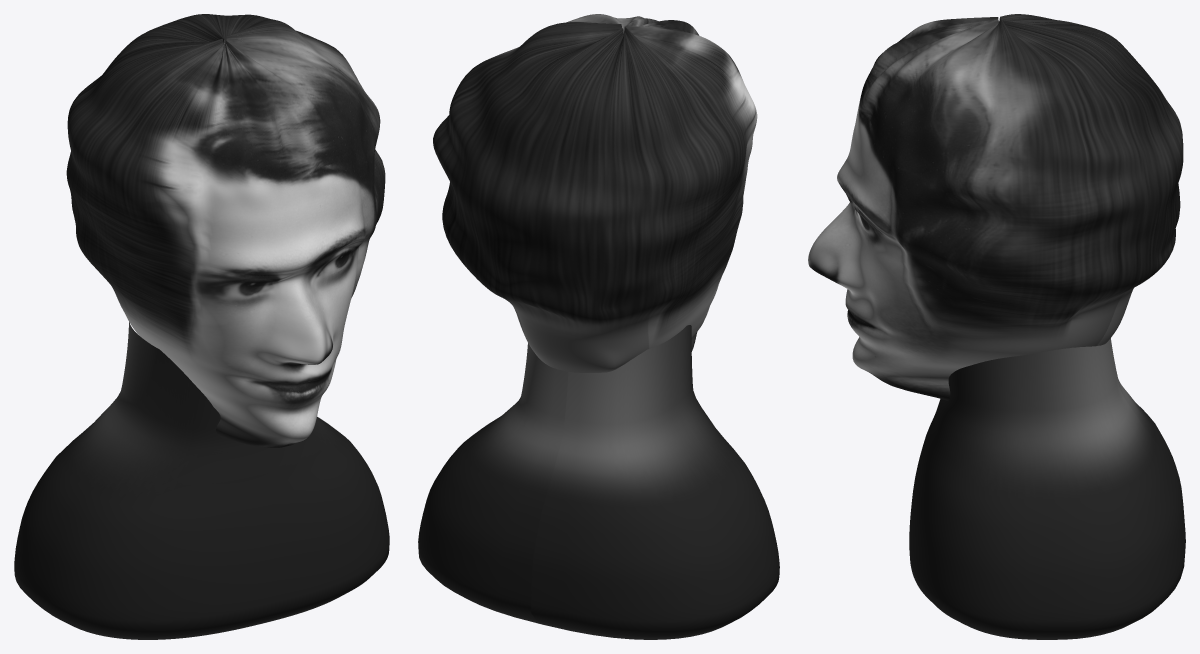
3 renders of one model, left to right at view 1: azimuth 30°, elevation 25°; view 2: azimuth 150°, elevation 25°; view 3: azimuth 270°, elevation 25°, orthographic. The views are drawn at different scales.
Parts seen in each view (by area): view 1: face; view 2: face; view 3: face.
Part boxes in pixels (x1=…): face: x1=14, y1=14, x2=389, y2=639; face: x1=418, y1=14, x2=779, y2=639; face: x1=808, y1=14, x2=1185, y2=639.
Size of the model in its own units: 0.2297 by 0.3705 by 0.2292.
1 material, 1 textured.
